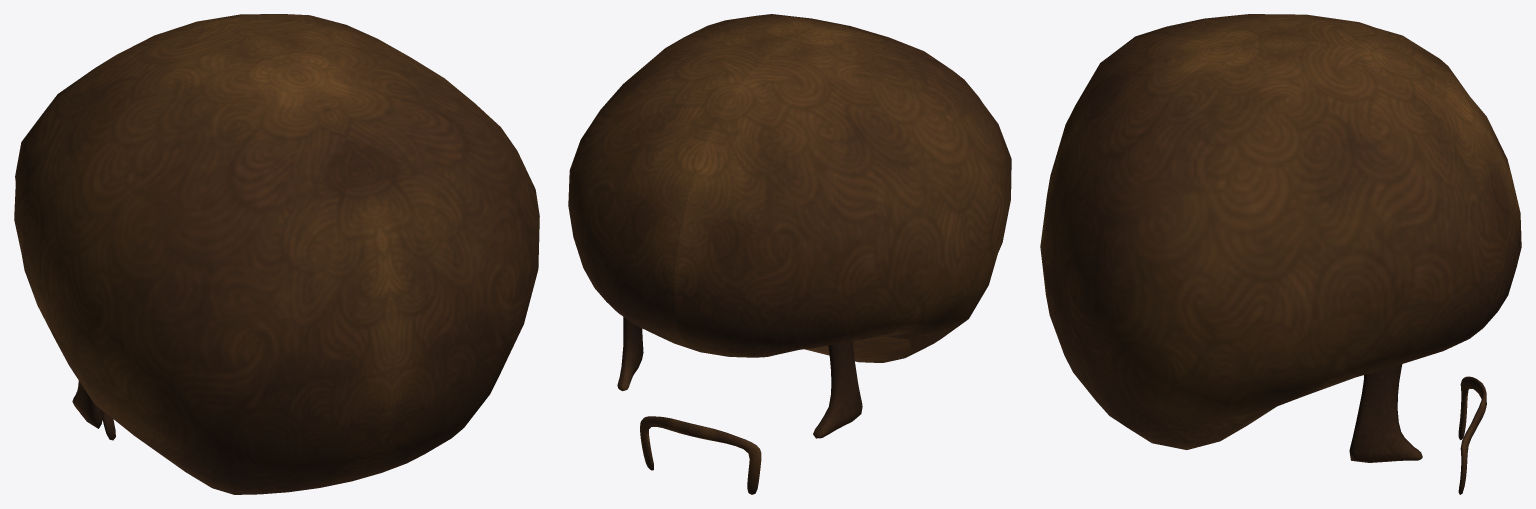
3 views of the same model, side by side, from view 1: azimuth 30°, elevation 25°; view 2: azimuth 150°, elevation 25°; view 3: azimuth 270°, elevation 25° (orthographic). The views are drawn at different scales.
Parts seen in each view (by area): view 1: geometry_0; view 2: geometry_0; view 3: geometry_0.
Part boxes in pixels (<box>): geometry_0: <box>14,14,539,494</box>; geometry_0: <box>568,14,1011,494</box>; geometry_0: <box>1040,14,1521,494</box>.
Size of the model in its own units: 1.84 by 1.84 by 1.88.
Materials: 1 (1 with a texture image).
